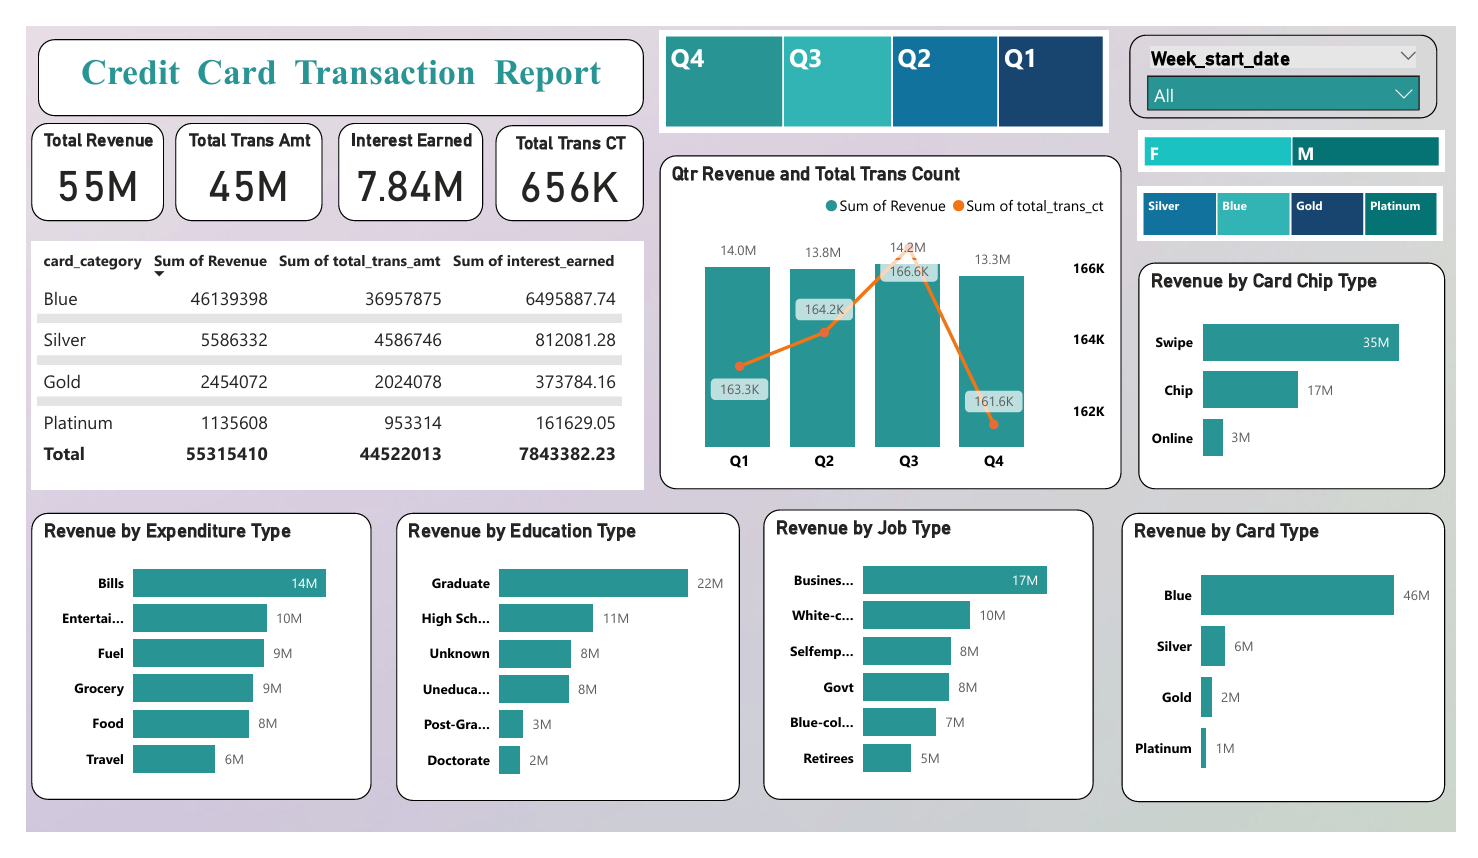

Layout of this report page (visuals, bound fields, positions):
{"tool":"powerbi","page":{"name":"CC Transaction","canvas":[1280,720],"ordinal":1},"visuals":[{"type":"textbox","box":[9.6,11,543.4,68.6],"z":0},{"type":"lineClusteredColumnComboChart","title":"Qtr Revenue and Total Trans Count","fields":{"Category":["public cc_detail.qtr"],"Y":["Sum(public cc_detail.Revenue)"],"Y2":["Sum(public cc_detail.total_trans_ct)"]},"box":[566.7,115.3,414.4,299.1],"z":1000},{"type":"barChart","title":"Revenue by Expenditure Type","fields":{"Y":["Sum(public cc_detail.Revenue)"],"Category":["public cc_detail.exp_type"]},"box":[4.1,435,304.6,256.6],"z":2000},{"type":"barChart","title":"Revenue by Education Type","fields":{"Y":["Sum(public cc_detail.Revenue)"],"Category":["public cust_detail.education_level"]},"box":[330.7,435,308.7,258],"z":3000},{"type":"barChart","title":"Revenue by Job Type","fields":{"Y":["Sum(public cc_detail.Revenue)"],"Category":["public cust_detail.customer_job"]},"box":[660,432.2,296.4,259.3],"z":4000},{"type":"barChart","title":"Revenue by Card Type","fields":{"Y":["Sum(public cc_detail.Revenue)"],"Category":["public cc_detail.card_category"]},"box":[981.1,435,289.5,259.3],"z":5000},{"type":"barChart","title":"Revenue by Card Chip Type","fields":{"Y":["Sum(public cc_detail.Revenue)"],"Category":["public cc_detail.use_chip"]},"box":[996.2,211.3,274.4,203.1],"z":6000},{"type":"tableEx","fields":{"Values":["public cc_detail.card_category","Sum(public cc_detail.Revenue)","Sum(public cc_detail.total_trans_amt)","Sum(public cc_detail.interest_earned)"]},"box":[4.1,192.1,548.9,222.3],"z":7000},{"type":"card","title":"Total Revenue","fields":{"Values":["Sum(public cc_detail.Revenue)"]},"box":[4.1,86.4,119.4,87.8],"z":8000},{"type":"card","title":"Total Trans Amt","fields":{"Values":["Sum(public cc_detail.total_trans_amt)"]},"box":[133.1,86.4,131.7,87.8],"z":9000},{"type":"card","title":"Interest Earned","fields":{"Values":["Sum(public cc_detail.interest_earned)"]},"box":[278.6,86.4,130.4,87.8],"z":10000},{"type":"card","title":"Total Trans CT","fields":{"Values":["Sum(public cc_detail.total_trans_ct)"]},"box":[419.9,87.8,133.1,86.4],"z":11000},{"type":"slicer","fields":{"Values":["public cc_detail.week_start_date"]},"box":[988,6.9,275.8,75.5],"z":12000},{"type":"treemap","fields":{"Group":["public cc_detail.qtr"],"Values":["Avg(public cust_detail.client_num)"]},"box":[566.7,2.7,403.4,91.9],"z":13000},{"type":"treemap","fields":{"Group":["public cust_detail.gender"],"Values":["Avg(public cust_detail.client_num)"]},"box":[996.2,93.3,274.4,37],"z":14000},{"type":"treemap","fields":{"Group":["public cc_detail.card_category"],"Values":["Avg(public cust_detail.client_num)"]},"box":[994.9,142.7,274.4,49.4],"z":15000}]}

Visuals, with their boxes on the page's 1280x720 design canvas (x1, y1, x2, y2). These are canvas units, not pixel positions in the 1478x858 screenshot, which may show the page scaled, cropped or inside an application window:
textbox: region(10, 11, 553, 80)
"Qtr Revenue and Total Trans Count" lineClusteredColumnComboChart: region(567, 115, 981, 414)
"Revenue by Expenditure Type" barChart: region(4, 435, 309, 692)
"Revenue by Education Type" barChart: region(331, 435, 639, 693)
"Revenue by Job Type" barChart: region(660, 432, 956, 692)
"Revenue by Card Type" barChart: region(981, 435, 1271, 694)
"Revenue by Card Chip Type" barChart: region(996, 211, 1271, 414)
tableEx - public cc_detail.card_category x Sum(public cc_detail.Revenue): region(4, 192, 553, 414)
"Total Revenue" card: region(4, 86, 124, 174)
"Total Trans Amt" card: region(133, 86, 265, 174)
"Interest Earned" card: region(279, 86, 409, 174)
"Total Trans CT" card: region(420, 88, 553, 174)
slicer - public cc_detail.week_start_date: region(988, 7, 1264, 82)
treemap - public cc_detail.qtr x Avg(public cust_detail.client_num): region(567, 3, 970, 95)
treemap - public cust_detail.gender x Avg(public cust_detail.client_num): region(996, 93, 1271, 130)
treemap - public cc_detail.card_category x Avg(public cust_detail.client_num): region(995, 143, 1269, 192)
